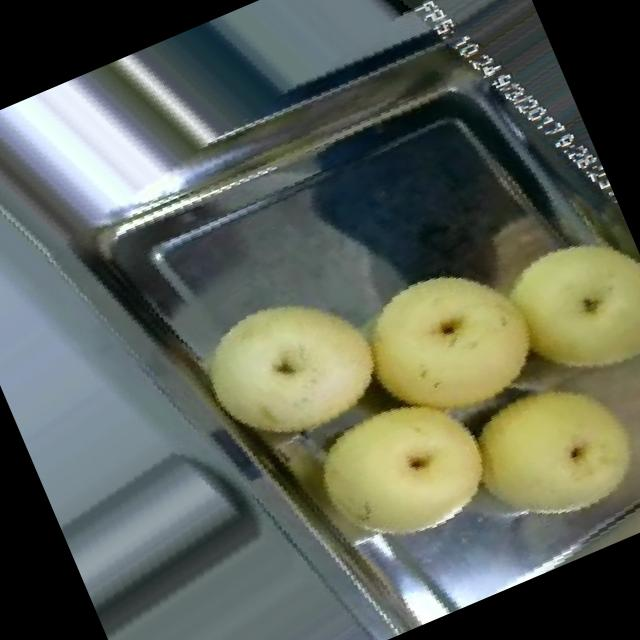Fruit: (272, 343, 532, 594), (322, 223, 575, 471), (168, 256, 414, 490), (428, 334, 640, 574), (467, 197, 640, 427)
